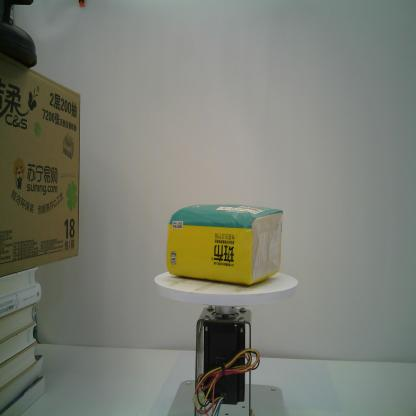Tissue: (166, 201, 284, 288)
